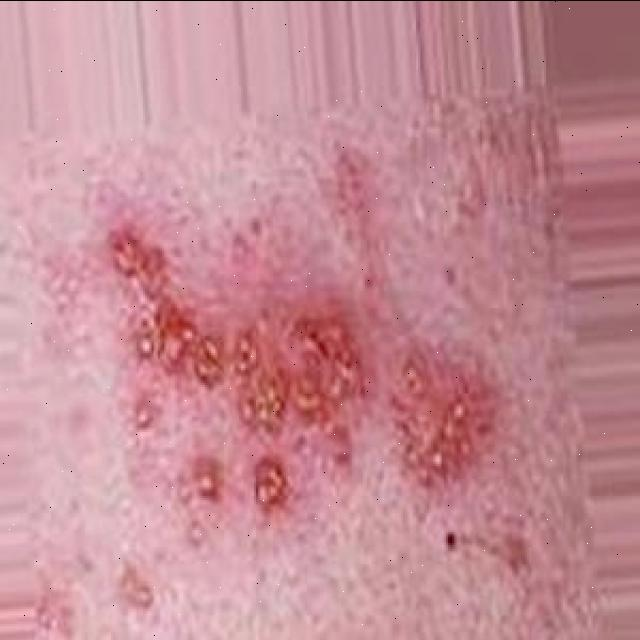Shingles: (93, 216, 496, 526)
